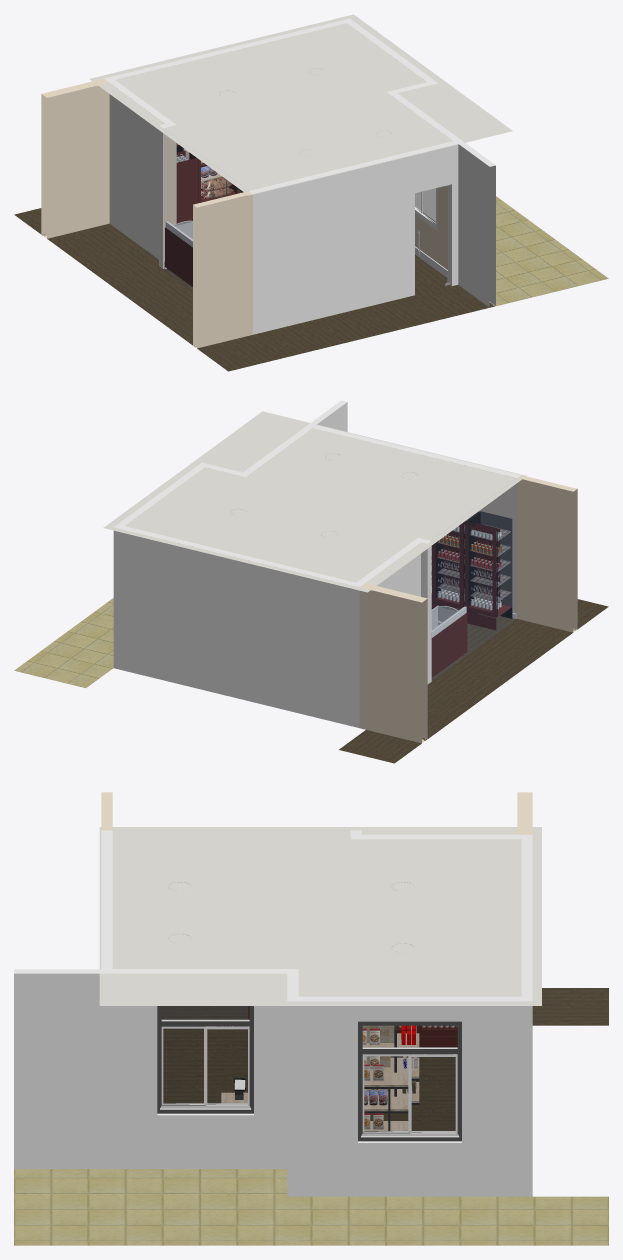
File: sala.glb
3 views of the same model, one above another, from view 1: azimuth 30°, elevation 25°; view 2: azimuth 150°, elevation 25°; view 3: azimuth 270°, elevation 25° (orthographic). The views are drawn at different scales.
Visible parts, largest first — view 1: estrutura, teto, geladeiras, freezer, armario; view 2: estrutura, teto, geladeiras2, freezer; view 3: estrutura, teto, gondola, aparador, geladeiras.
Part boxes in pixels (x1,y1,x2,y2): estrutura: (14, 18, 608, 371); teto: (89, 14, 512, 195); geladeiras: (176, 143, 200, 223); freezer: (165, 220, 192, 286); armario: (189, 152, 241, 202); estrutura: (14, 400, 608, 763); teto: (103, 411, 526, 592); geladeiras2: (431, 511, 512, 630); freezer: (431, 605, 467, 678); estrutura: (14, 792, 608, 1245); teto: (99, 827, 541, 1005); gondola: (362, 1025, 419, 1104); aparador: (364, 1064, 408, 1130); geladeiras: (397, 1025, 457, 1047).
Bounding box in the file's own units: 8.2 × 2.9 × 8.
195 materials, 139 textured.
